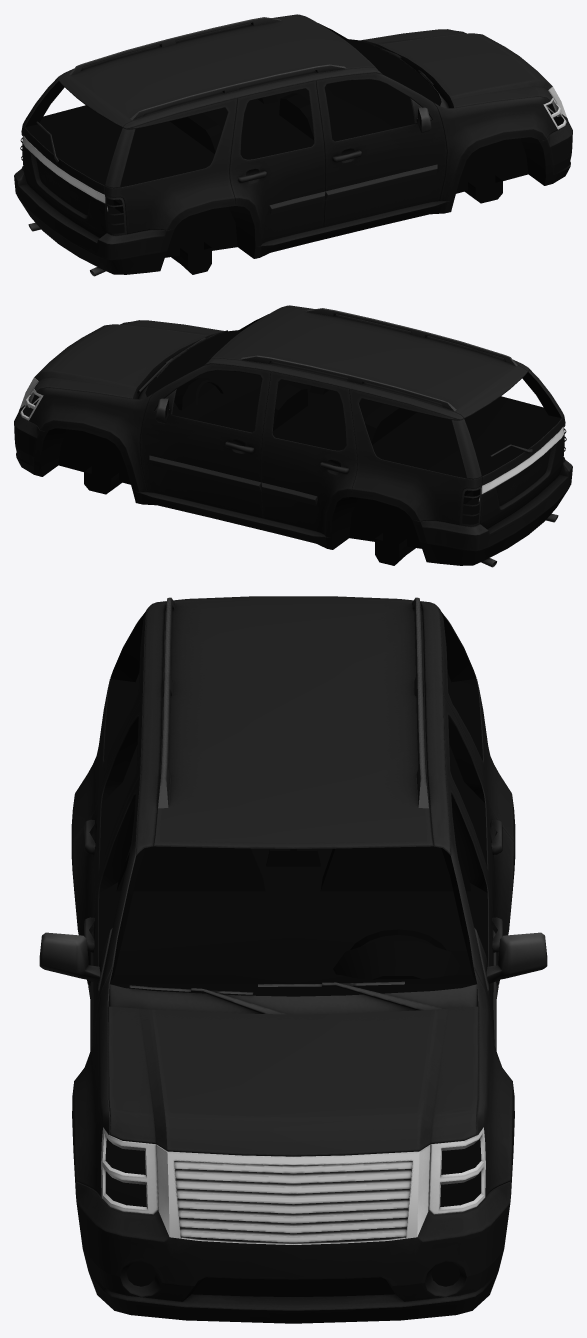
Rendered from CarSuv.001.dae.
3 views of the same model, one above another, from view 1: azimuth 30°, elevation 25°; view 2: azimuth 150°, elevation 25°; view 3: azimuth 270°, elevation 25° (orthographic). The views are drawn at different scales.
Visible parts, largest first — view 1: CarSuv.001; view 2: CarSuv.001; view 3: CarSuv.001.
Boxes of the visible parts, left/top/right/bottom form: CarSuv.001: left=14, top=14, right=572, bottom=276; CarSuv.001: left=14, top=305, right=572, bottom=567; CarSuv.001: left=39, top=596, right=547, bottom=1323.
Bounding box in the file's own units: 4.61 × 2.07 × 1.53.
